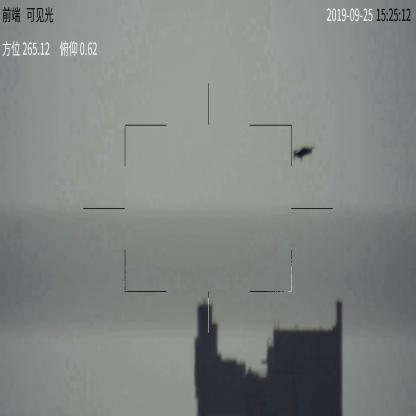uav: (290, 146, 311, 163)
